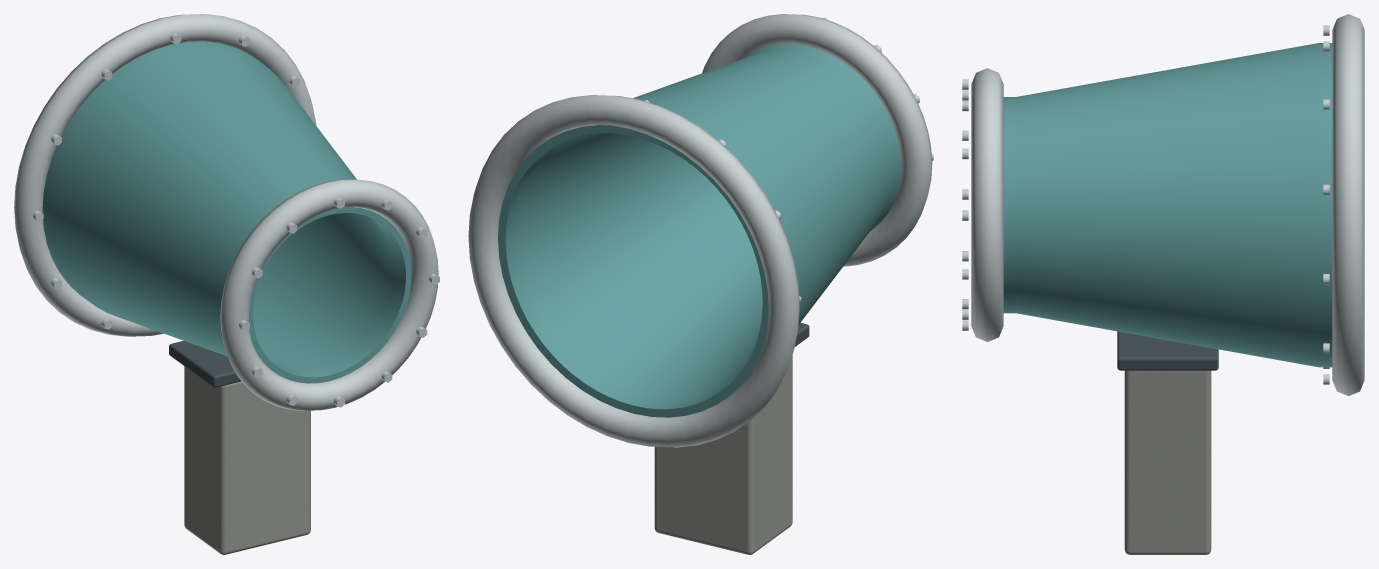
File: hydroelectric-dam-infiltration-penstock-reducer-6a0ac90a__29341.glb
3 views of the same model, side by side, from view 1: azimuth 30°, elevation 25°; view 2: azimuth 150°, elevation 25°; view 3: azimuth 270°, elevation 25° (orthographic). The views are drawn at different scales.
Visible parts, largest first — view 1: penstock-reducer; view 2: penstock-reducer; view 3: penstock-reducer.
Boxes of the visible parts, box(x1,y1,x2,y2) form: penstock-reducer: box(14, 14, 439, 554); penstock-reducer: box(468, 14, 933, 554); penstock-reducer: box(962, 14, 1364, 554).
Size of the model in its own units: 1.06 by 1.53 by 1.12.
4 materials, 1 textured.
